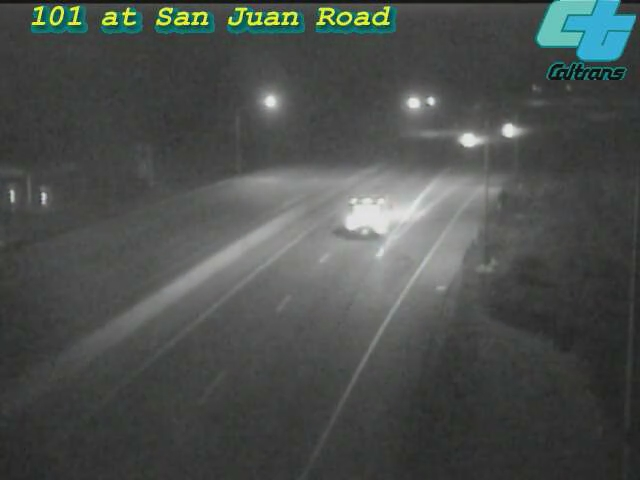vehicle: (321, 184, 401, 264), (481, 107, 531, 157), (445, 114, 495, 164)
